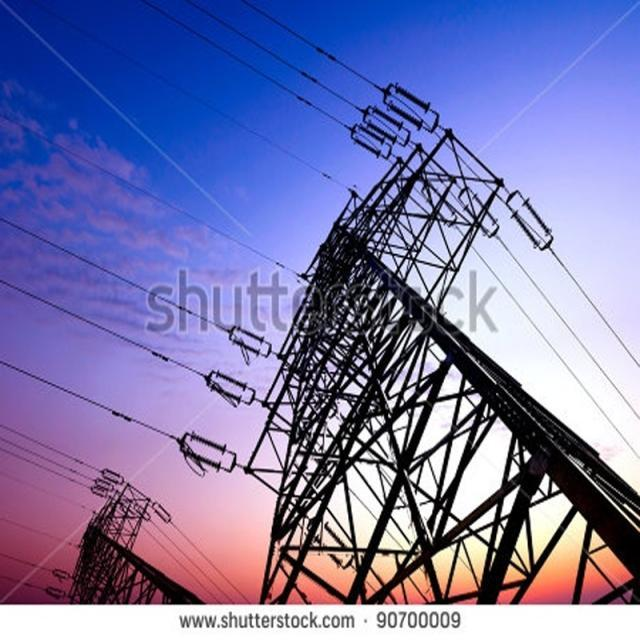non-critical vegetation: (225, 130, 620, 594)
